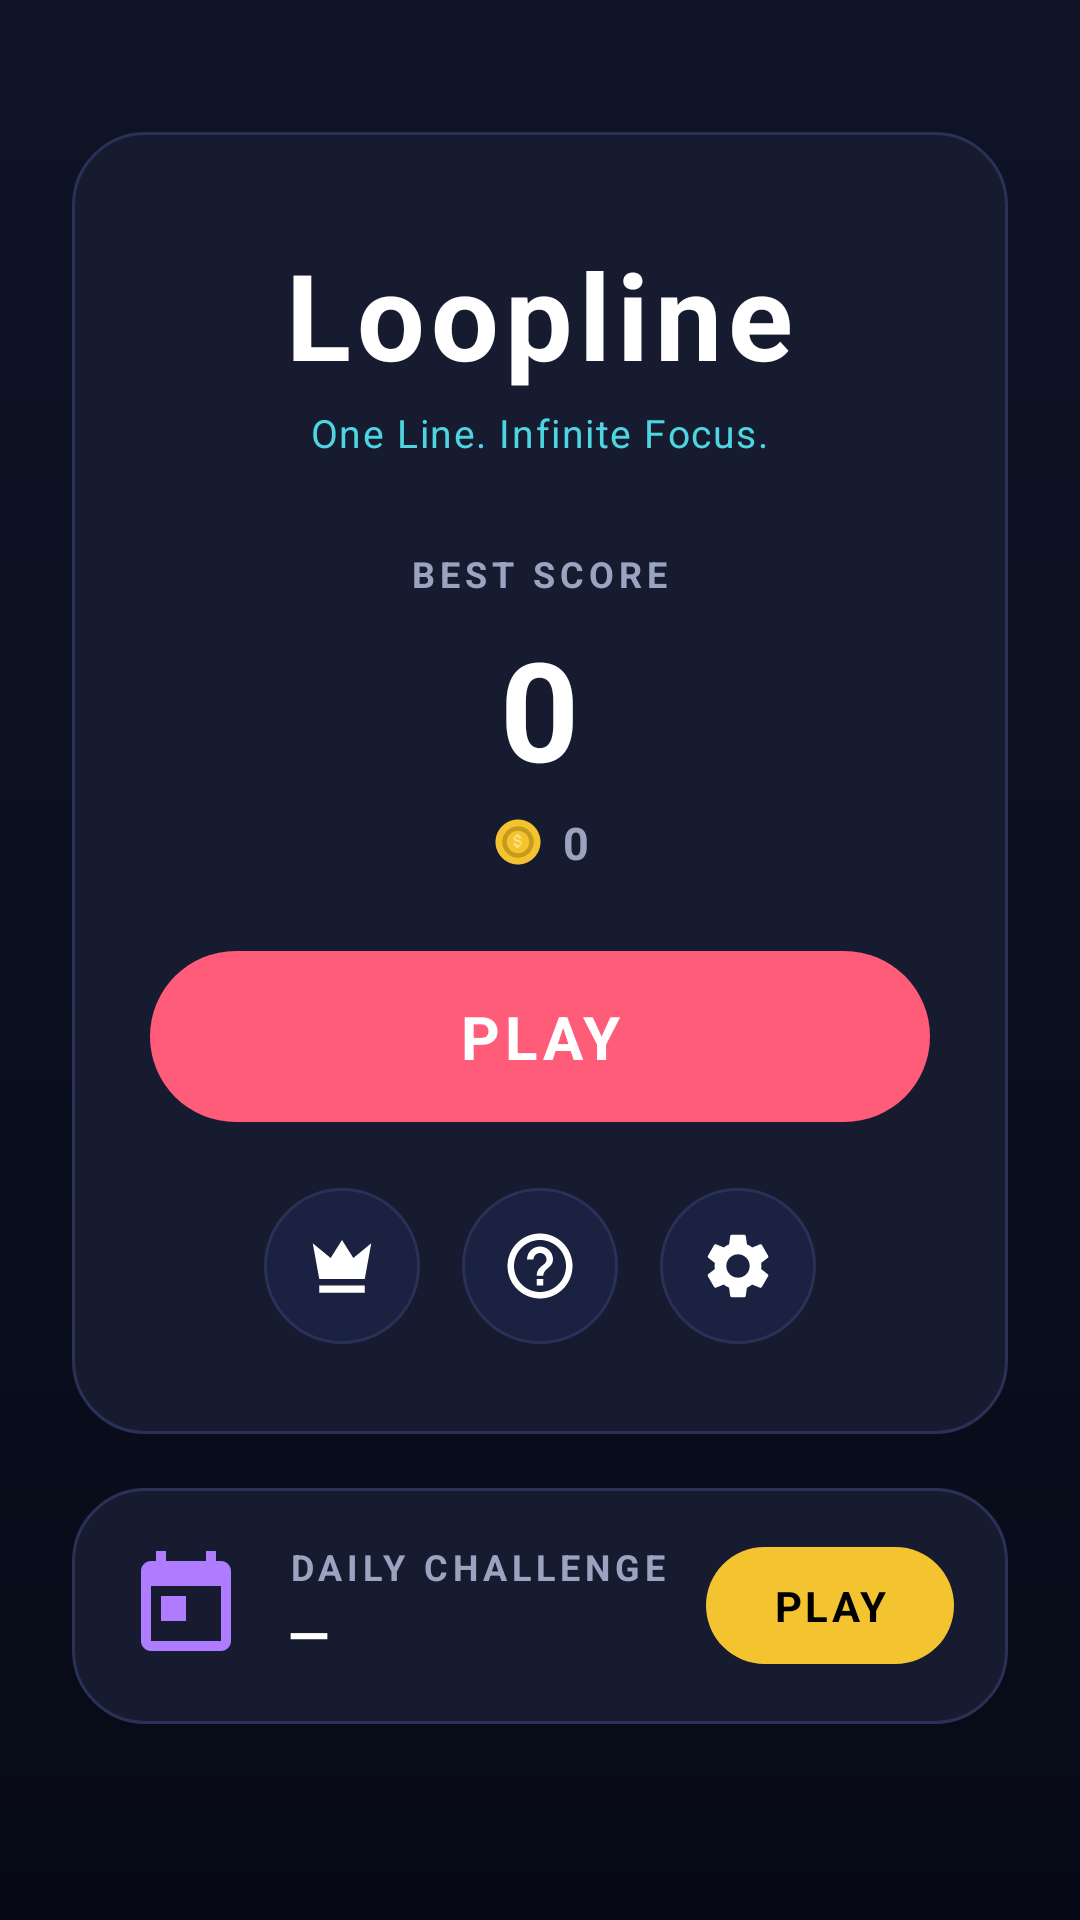

Where icons sit on this 1080 x 1920 app screen, as region(x1, y1, x2, y2):
calendar: region(141, 1551, 231, 1651)
coin: region(495, 819, 541, 865)
Settings: region(660, 1188, 816, 1344)
